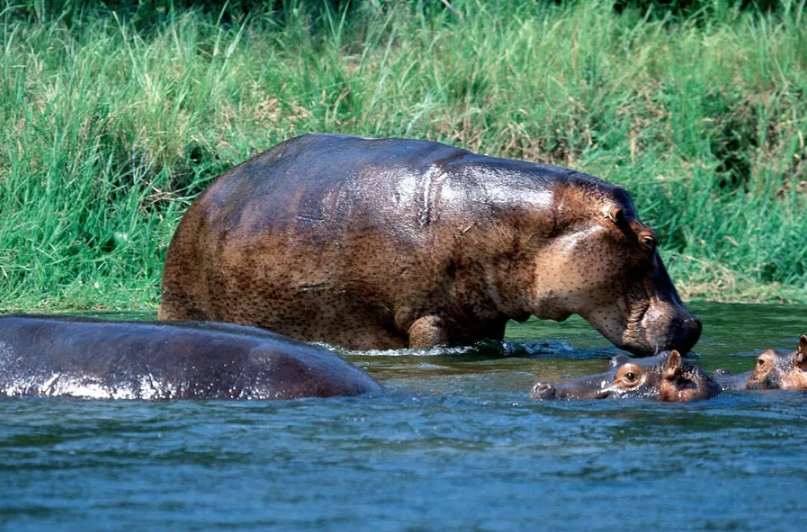hippo: (178, 134, 701, 354), (535, 356, 724, 407)
